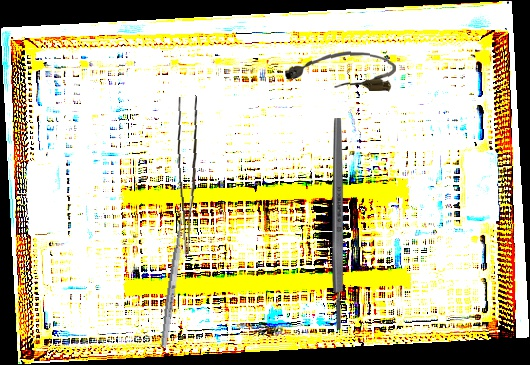Cannula: (284, 48, 397, 92)
Scalpel Handle: (332, 118, 344, 329)
Surgical Spoon: (159, 207, 188, 348)
Tissue Forceps: (173, 95, 208, 255)
